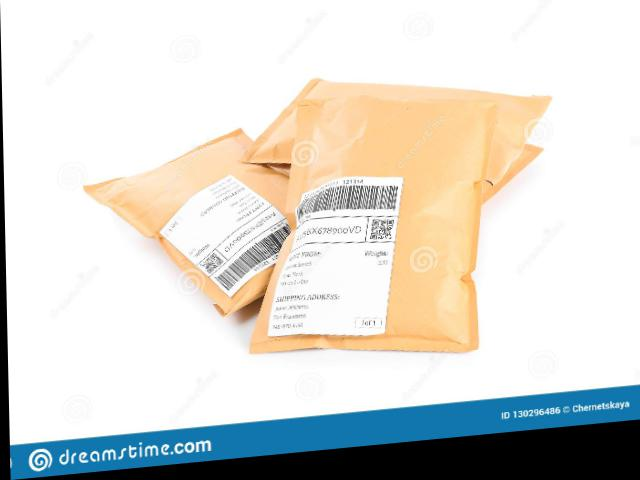label: (266, 171, 406, 338), (151, 172, 293, 298)
package: (243, 98, 503, 362), (80, 126, 339, 318), (244, 76, 551, 202)
